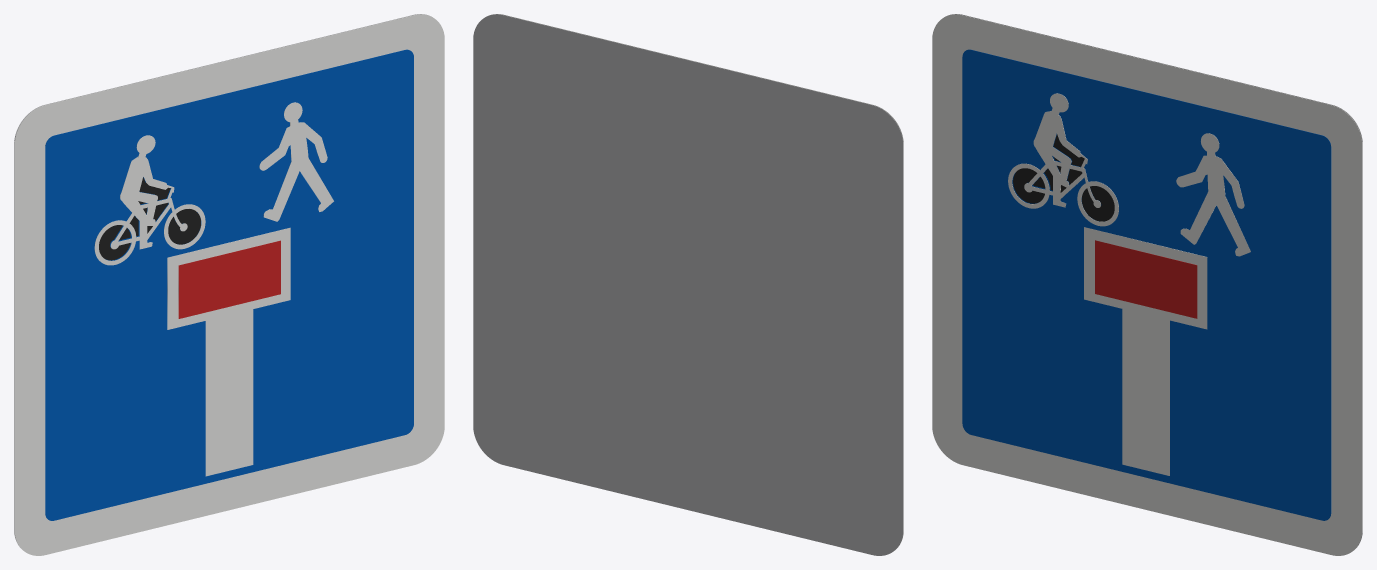
The picture shows the model from 3 angles, left to right: view 1: azimuth 30°, elevation 25°; view 2: azimuth 150°, elevation 25°; view 3: azimuth 330°, elevation 25°; orthographic projection.
Parts seen in each view (by area): view 1: C13d_p01, C13d_p00, C13d_p03, C13d_p04, C13d_p14, C13d_p02, C13d_dos, C13d_p12, C13d_p08; view 2: C13d_dos, C13d_p00; view 3: C13d_p01, C13d_p00, C13d_p03, C13d_p04, C13d_p14, C13d_p02, C13d_dos, C13d_p12, C13d_p08.
Boxes of the visible parts, x1,y1,x2,y2 form: C13d_p01: (45, 49, 413, 520); C13d_p00: (14, 14, 444, 555); C13d_p03: (167, 227, 290, 476); C13d_p04: (178, 240, 280, 318); C13d_p14: (94, 157, 205, 265); C13d_p02: (259, 102, 333, 221); C13d_dos: (14, 14, 431, 547); C13d_p12: (168, 209, 200, 244); C13d_p08: (99, 225, 130, 260); C13d_dos: (473, 14, 903, 555); C13d_p00: (486, 14, 903, 547); C13d_p01: (962, 49, 1331, 520); C13d_p00: (932, 14, 1362, 555); C13d_p03: (1084, 227, 1207, 475); C13d_p04: (1095, 240, 1197, 318); C13d_p14: (1008, 111, 1118, 226); C13d_p02: (1176, 133, 1250, 256); C13d_dos: (945, 14, 1362, 547); C13d_p12: (1081, 186, 1114, 221); C13d_p08: (1013, 168, 1044, 203).
Size of the model in its own units: 0.7 by 0.6999 by 0.0079.
